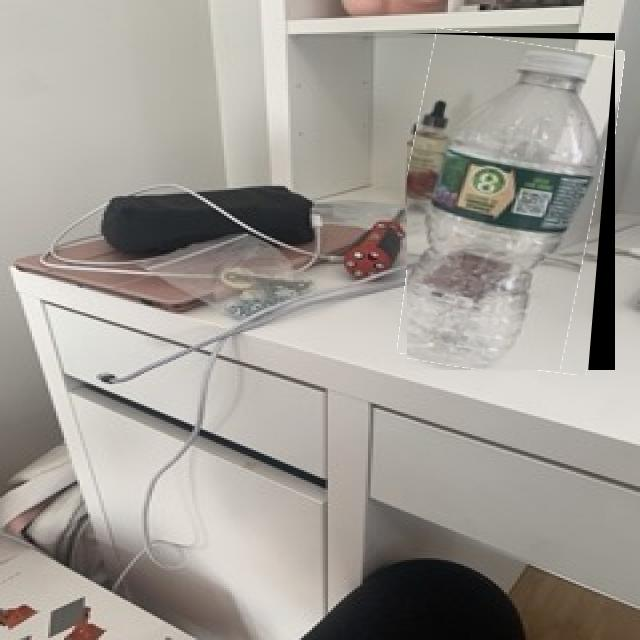water_bottle: (407, 33, 615, 370)
